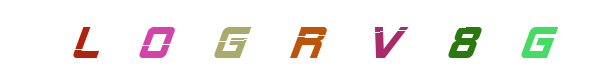8: (425, 0, 505, 80)
G: (211, 0, 291, 80), (497, 0, 577, 80)
L: (130, 0, 210, 80)
O: (189, 0, 269, 80)
R: (265, 0, 345, 80)
V: (343, 0, 423, 80)
